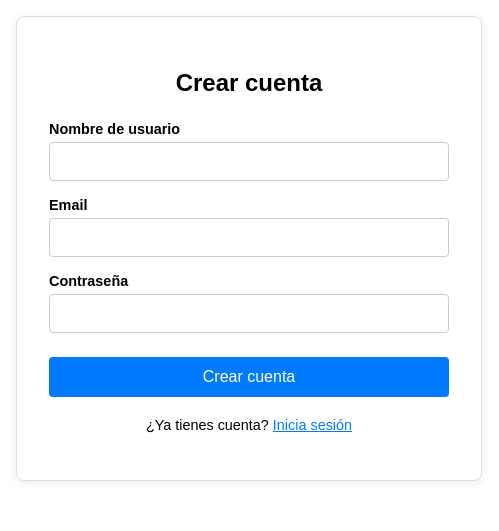
RegisterPage › muestra el error y no navega cuando el registro falla
In the field labelled "Nombre de usuario": [249, 161] box [49,142,449,181], type "nuevo"
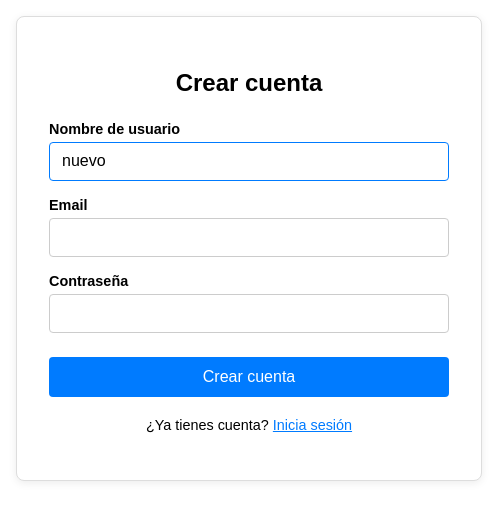
In the field labelled "Email": [249, 237] box [49,218,449,257], type "repetido@test.com"
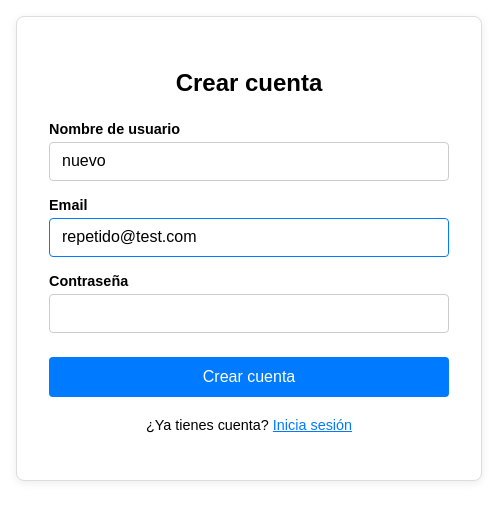
In the password field labelled "Contraseña": [249, 313] box [49,294,449,333], type "secret1"
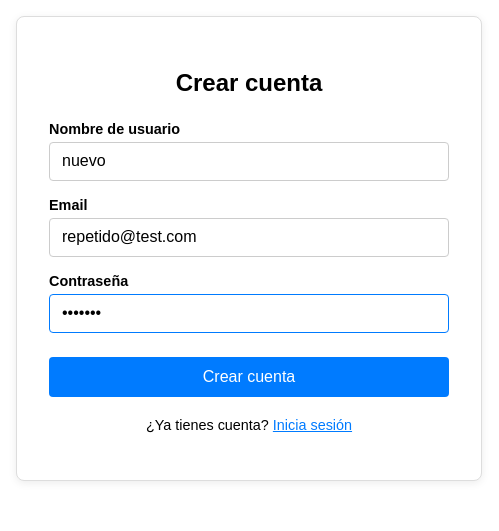
Click the button "Crear cuenta": [249, 377] box [49,357,449,397]
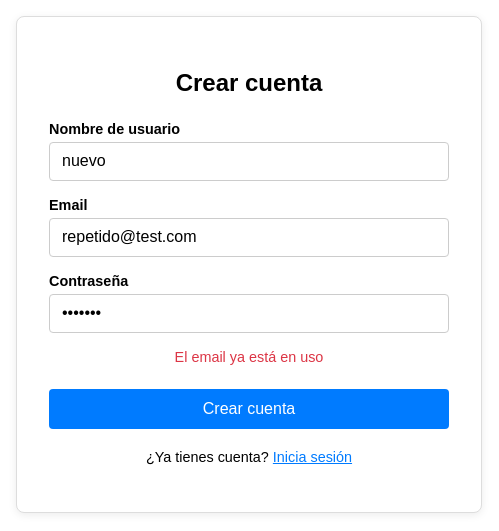
Expected: the text "El email ya está en uso" is shown, [175,349,323,365]
